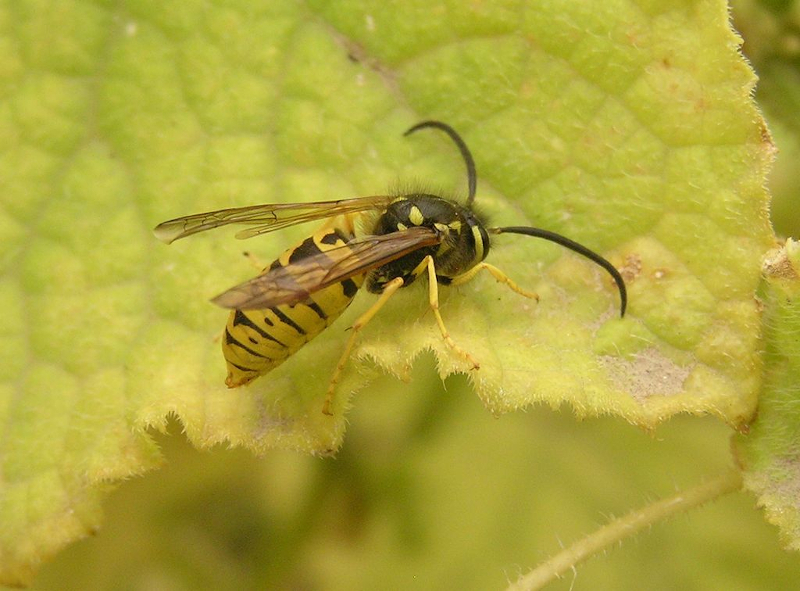chax: (152, 115, 645, 413)
